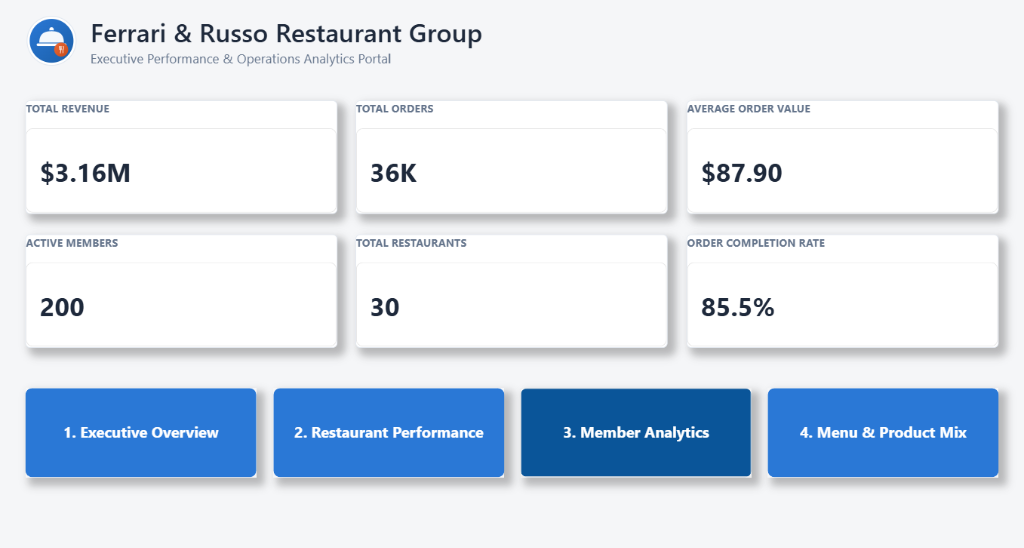

The page's visual inventory and layout, read from the dashboard file:
{"tool":"powerbi","page":{"name":"Home","canvas":[1280,720],"ordinal":0},"visuals":[{"type":"textbox","box":[120,25,1120,65],"z":0},{"type":"cardVisual","title":"TOTAL REVENUE","fields":{"Data":["KPI Measures.Total Revenue"]},"box":[40,130,385,140],"z":1000},{"type":"cardVisual","title":"TOTAL ORDERS","fields":{"Data":["KPI Measures.Total Orders"]},"box":[447,130,385,140],"z":2000},{"type":"cardVisual","title":"AVERAGE ORDER VALUE","fields":{"Data":["KPI Measures.Avg Order Value"]},"box":[855,130,385,140],"z":3000},{"type":"cardVisual","title":"ACTIVE MEMBERS","fields":{"Data":["KPI Measures.Total Customers"]},"box":[40,295,385,140],"z":4000},{"type":"cardVisual","title":"TOTAL RESTAURANTS","fields":{"Data":["KPI Measures.Total Restaurants"]},"box":[447,295,385,140],"z":5000},{"type":"cardVisual","title":"ORDER COMPLETION RATE","fields":{"Data":["KPI Measures.Order Completion Rate"]},"box":[855,295,385,140],"z":6000},{"type":"actionButton","box":[40,485,285,110],"z":7000},{"type":"actionButton","box":[345,485,285,110],"z":8000},{"type":"actionButton","box":[650,485,285,110],"z":9000},{"type":"actionButton","box":[955,485,285,110],"z":10000},{"type":"image","box":[40,25,65,65],"z":10001}]}

Visuals, with their boxes on the page's 1280x720 design canvas (x1, y1, x2, y2). These are canvas units, not pixel positions in the 1024x548 screenshot, which may show the page scaled, cropped or inside an application window:
textbox: {"left": 120, "top": 25, "right": 1240, "bottom": 90}
"TOTAL REVENUE" cardVisual: {"left": 40, "top": 130, "right": 425, "bottom": 270}
"TOTAL ORDERS" cardVisual: {"left": 447, "top": 130, "right": 832, "bottom": 270}
"AVERAGE ORDER VALUE" cardVisual: {"left": 855, "top": 130, "right": 1240, "bottom": 270}
"ACTIVE MEMBERS" cardVisual: {"left": 40, "top": 295, "right": 425, "bottom": 435}
"TOTAL RESTAURANTS" cardVisual: {"left": 447, "top": 295, "right": 832, "bottom": 435}
"ORDER COMPLETION RATE" cardVisual: {"left": 855, "top": 295, "right": 1240, "bottom": 435}
actionButton: {"left": 40, "top": 485, "right": 325, "bottom": 595}
actionButton: {"left": 345, "top": 485, "right": 630, "bottom": 595}
actionButton: {"left": 650, "top": 485, "right": 935, "bottom": 595}
actionButton: {"left": 955, "top": 485, "right": 1240, "bottom": 595}
image: {"left": 40, "top": 25, "right": 105, "bottom": 90}
